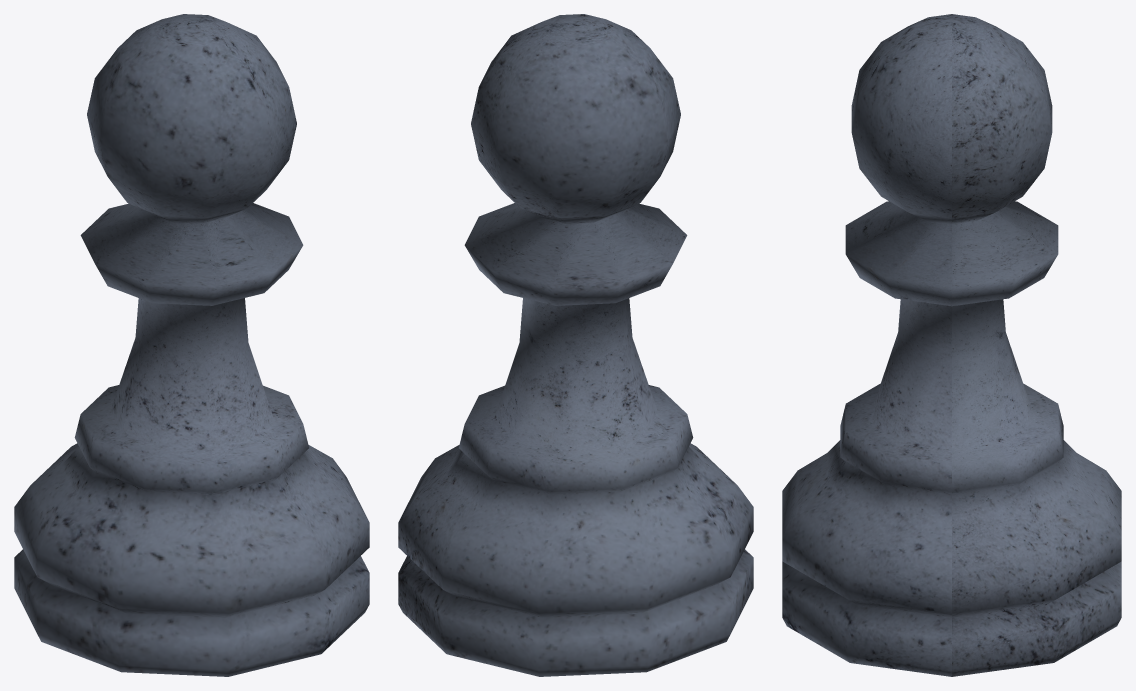
File: chess_lowpoly.glb
The picture shows the model from 3 angles, left to right: view 1: azimuth 30°, elevation 25°; view 2: azimuth 150°, elevation 25°; view 3: azimuth 270°, elevation 25°; orthographic projection.
Visible parts, largest first — view 1: king; view 2: king; view 3: king.
Part boxes in pixels (x1,y1,x2,y2): king: (14,14,369,676); king: (398,14,753,676); king: (782,14,1121,676).
Size of the model in its own units: 1.2 by 2.15 by 1.14.
1 material, 1 textured.
